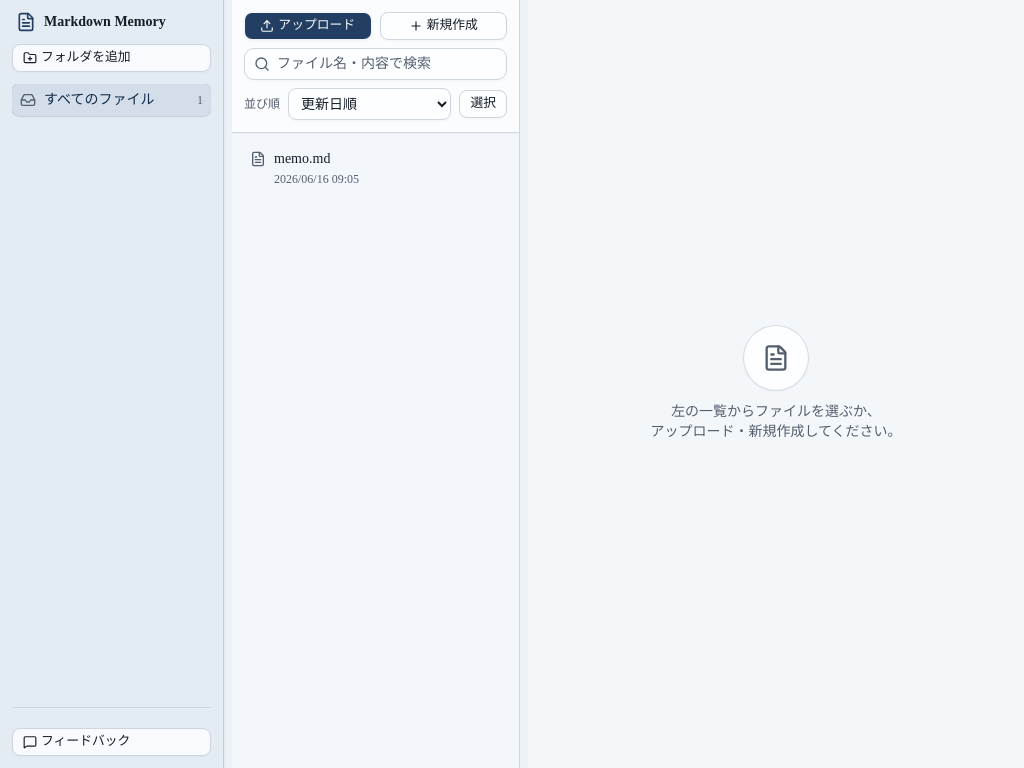
Test case: MarkdownWorkspace › 選択モード中の行クリックは本文表示ではなく選択切替にする
What coordinates should you click on to do the following:
click the button "選択"
I would click on:
 (483, 104)
Its box is [459,90,507,118].
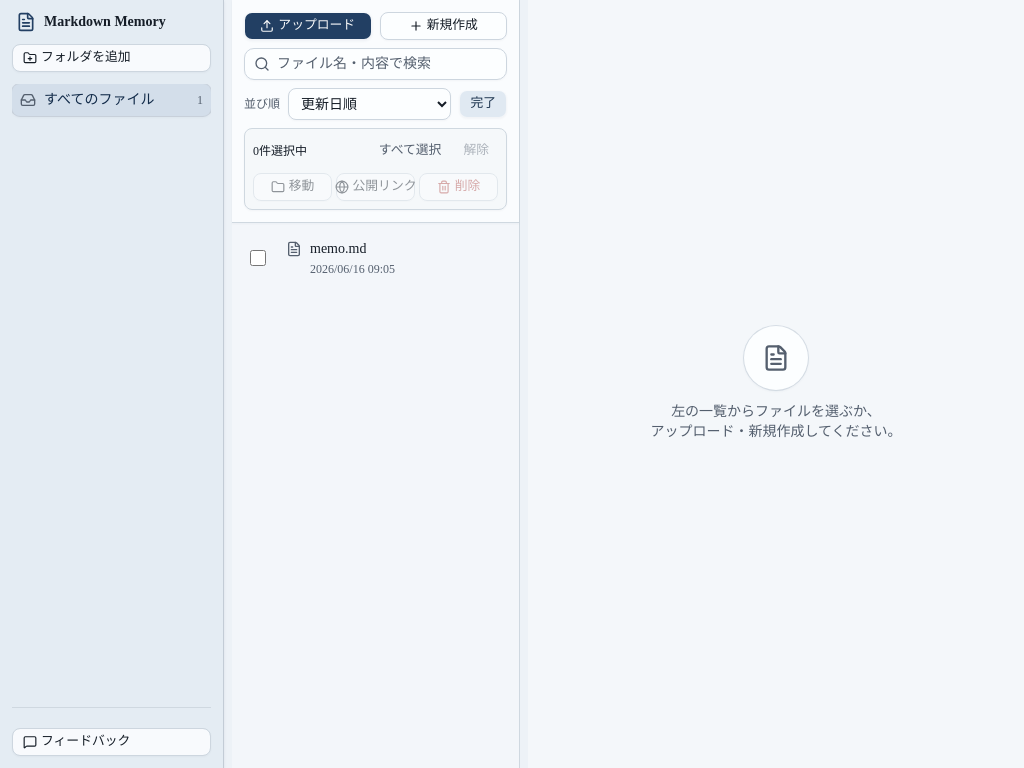
What coordinates should you click on to do the following:
click the text "memo.md"
I would click on:
 (338, 249)
Its box is [310,239,366,259].
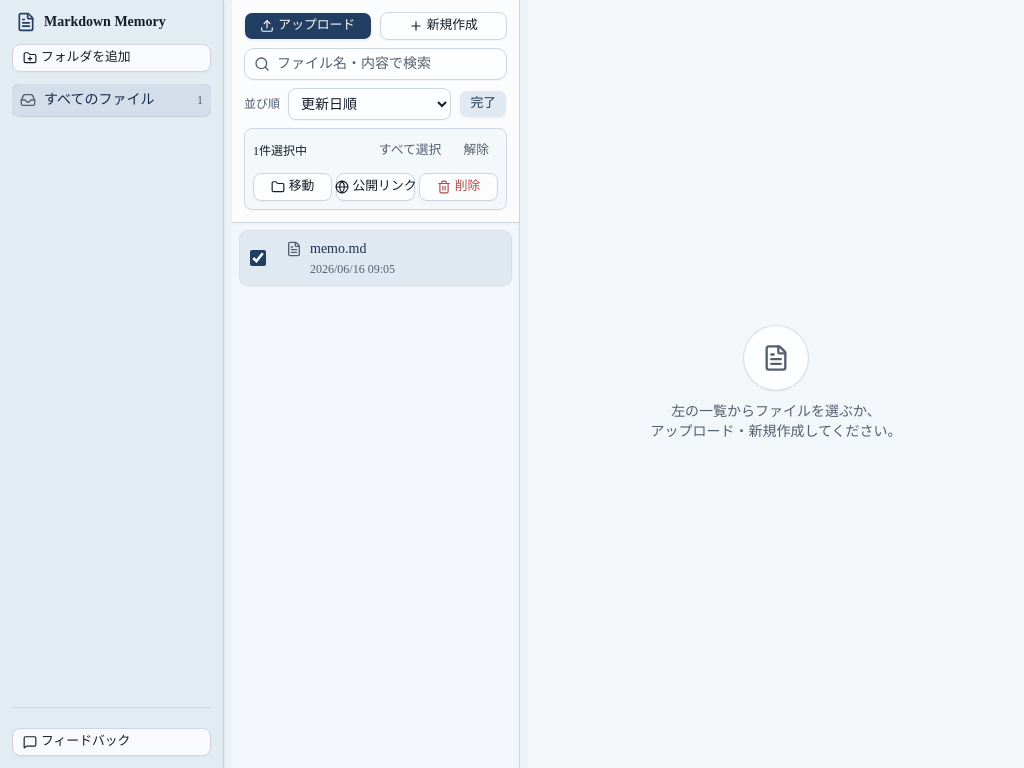
Expected: the text "1件選択中" is shown, [253,143,307,159]
Expected: the checkbox named "memo.md を選択" is checked, [250,250,266,266]
